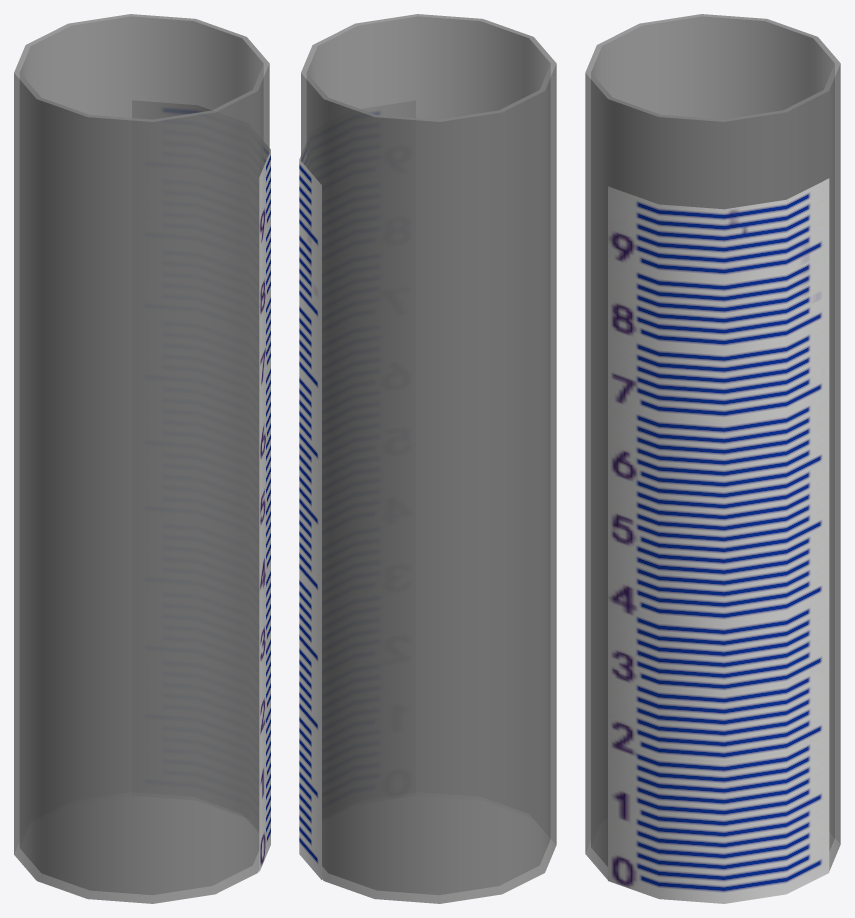
Rendered from SM_塑料离心管.fbx.
3 renders of one model, left to right at view 1: azimuth 30°, elevation 25°; view 2: azimuth 150°, elevation 25°; view 3: azimuth 270°, elevation 25°, orthographic.
Parts seen in each view (by area): view 1: SM_塑料离心管; view 2: SM_塑料离心管; view 3: SM_塑料离心管.
Boxes of the visible parts, bbox=[...] form: SM_塑料离心管: bbox=[14, 14, 270, 903]; SM_塑料离心管: bbox=[299, 14, 556, 903]; SM_塑料离心管: bbox=[585, 14, 840, 903].
Bounding box in the file's own units: 9.72 × 32.59 × 9.66.
